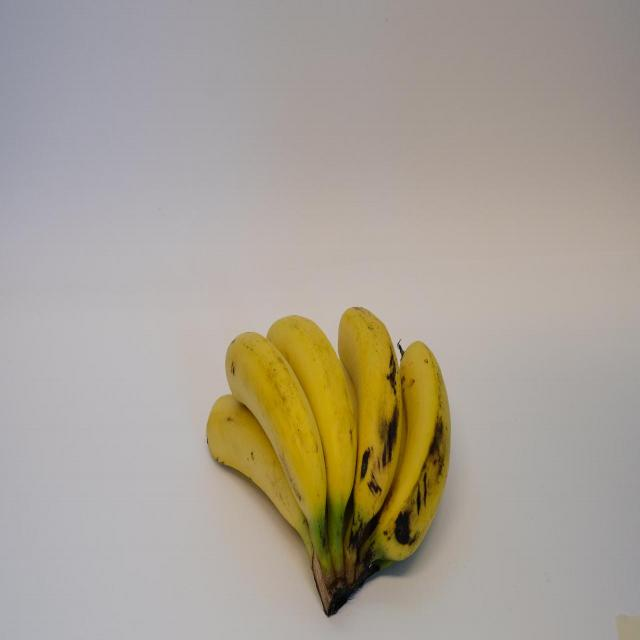banana: (218, 328, 331, 533), (264, 292, 358, 530), (203, 377, 315, 569), (328, 292, 404, 534), (380, 338, 452, 574)
